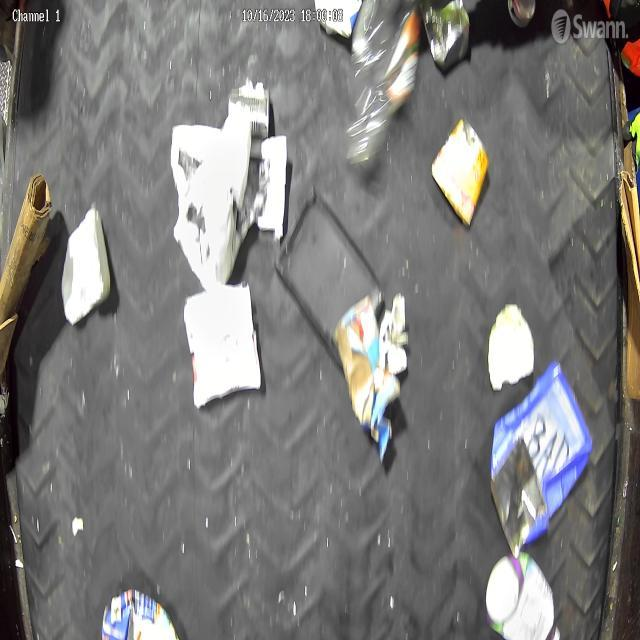can: (430, 117, 490, 228), (426, 0, 470, 72), (507, 0, 537, 28)
non_white_jug: (485, 554, 561, 640), (101, 586, 180, 640)
